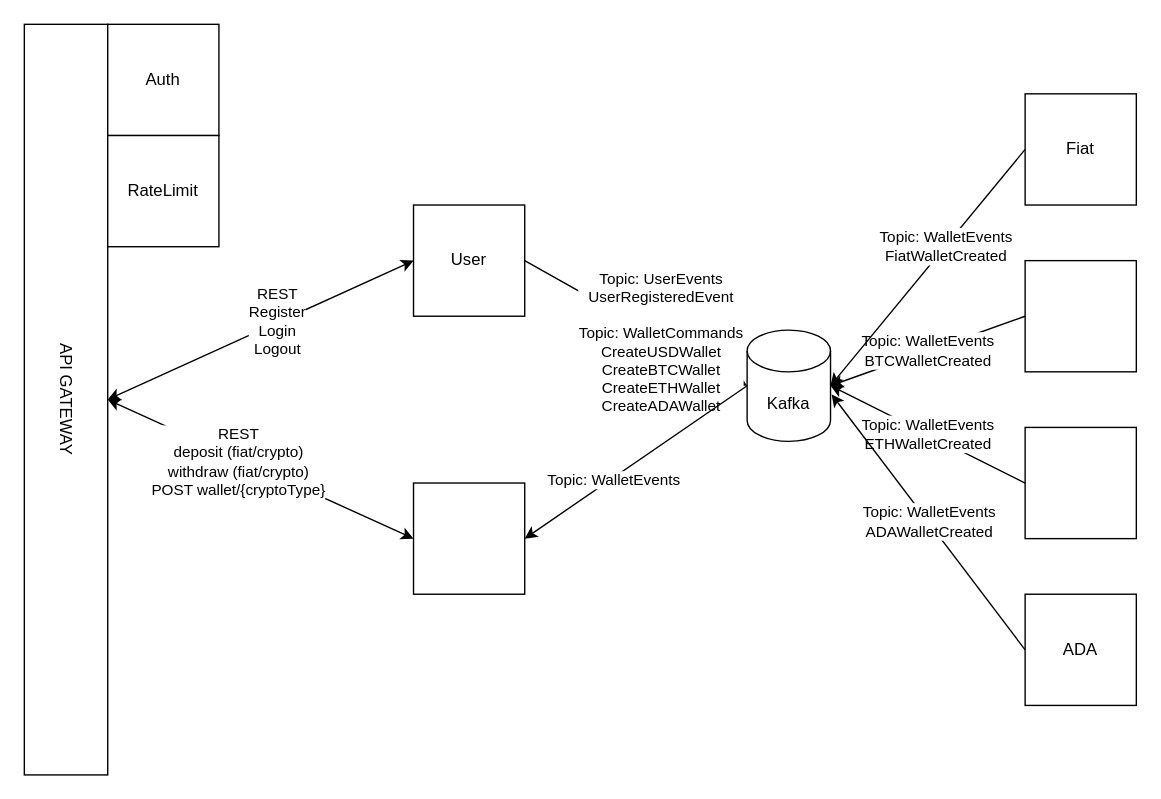
The diagram is 1161 pixels wide and 799 high, and some of its shapes have lost their labels. The shapes that lost their labels are listed below. From the top down, each one's centre as x and y in pixels, then its label:
the point at 1080,315: BTC
the point at 1080,482: ETH
the point at 468,538: Wallet
